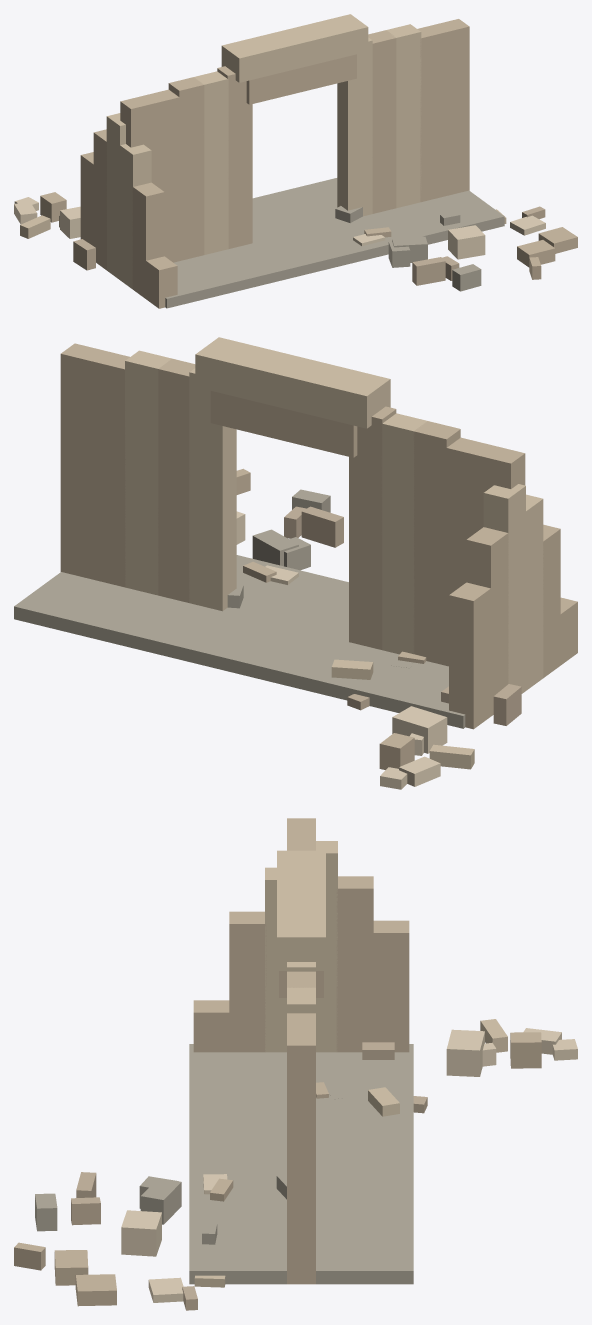
Rendered from archway.glb.
3 views of the same model, one above another, from view 1: azimuth 30°, elevation 25°; view 2: azimuth 150°, elevation 25°; view 3: azimuth 270°, elevation 25° (orthographic). The views are drawn at different scales.
Parts seen in each view (by area): view 1: stone_0, adobe_12, adobe_6, adobe2_3, adobe_8, adobe_4, adobe2_7, adobe2_10, adobe2_9, adobe2_5, adobe2_2, adobe2_17 (+20 smaller); view 2: stone_0, adobe_12, adobe_6, adobe_8, adobe2_3, adobe2_10, adobe_4, adobe2_7, adobe2_5, adobe2_9, adobe2_13, adobe2_11 (+17 smaller); view 3: stone_0, adobe2_10, adobe2_14, adobe_12, adobe2_17, adobe2_13, adobe_15, adobe_16, adobe2_18, adobe3_28, adobe3_45, stone_32 (+10 smaller).
Boxes of the visible parts, <box> form: stone_0: <box>165,178,504,308</box>; adobe_12: <box>221,14,368,82</box>; adobe_6: <box>337,37,372,216</box>; adobe2_3: <box>168,77,204,260</box>; adobe_8: <box>386,24,421,208</box>; adobe_4: <box>193,71,228,254</box>; adobe2_7: <box>368,30,396,213</box>; adobe2_10: <box>434,19,469,196</box>; adobe2_9: <box>417,24,445,202</box>; adobe2_5: <box>217,66,252,248</box>; adobe2_2: <box>145,89,179,262</box>; adobe2_17: <box>132,182,164,298</box>; stone_0: <box>14,555,465,728</box>; adobe_12: <box>195,337,390,428</box>; adobe_6: <box>189,368,236,611</box>; adobe_8: <box>125,350,171,595</box>; adobe2_3: <box>413,421,460,665</box>; adobe2_10: <box>60,343,107,579</box>; adobe_4: <box>381,413,426,654</box>; adobe2_7: <box>158,358,195,602</box>; adobe2_5: <box>349,406,396,649</box>; adobe2_9: <box>93,351,129,587</box>; adobe2_13: <box>449,582,491,729</box>; adobe2_11: <box>210,391,357,457</box>; stone_0: <box>189,1044,413,1284</box>; adobe2_10: <box>287,1029,315,1284</box>; adobe2_14: <box>336,876,373,1052</box>; adobe_12: <box>277,850,325,970</box>; adobe2_17: <box>229,911,266,1052</box>; adobe2_13: <box>372,920,409,1052</box>; adobe_15: <box>316,841,337,1052</box>; adobe_16: <box>265,867,286,1052</box>; adobe2_18: <box>193,1000,230,1052</box>; adobe3_28: <box>121,1210,161,1256</box>; adobe3_45: <box>446,1029,484,1076</box>; stone_32: <box>140,1178,181,1224</box>.
Bounding box in the file's own units: 6.72 × 3.13 × 5.78.
